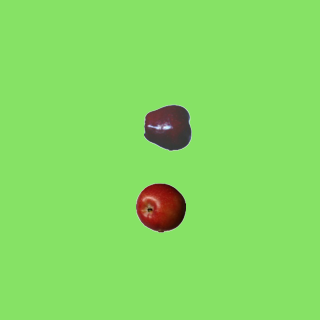Apple Braeburn: (135, 182, 185, 232)
Apple Red Delicious: (143, 102, 193, 152)
